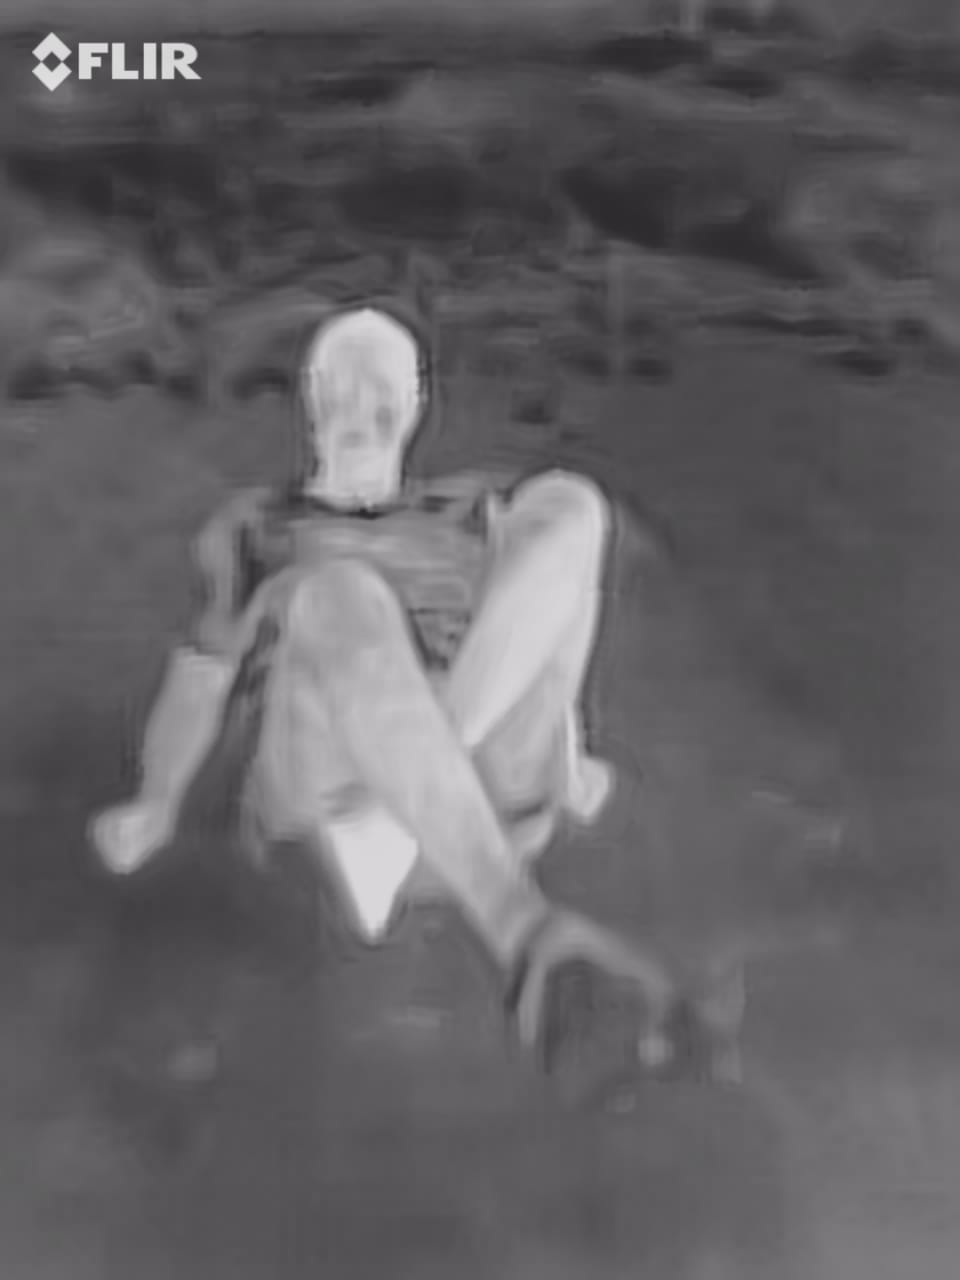head: (288, 298, 436, 492)
